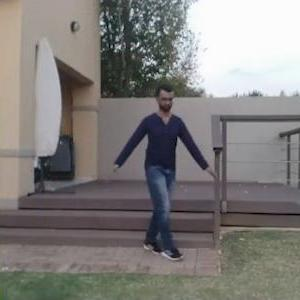land: (101, 91, 207, 265)
